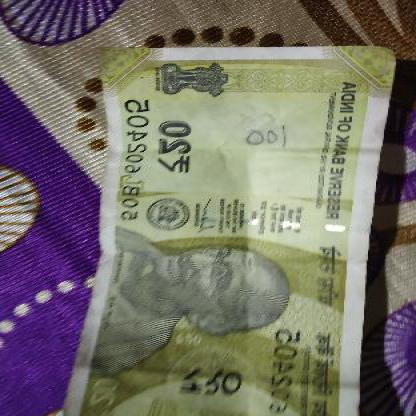New20Front: (97, 48, 379, 415)
